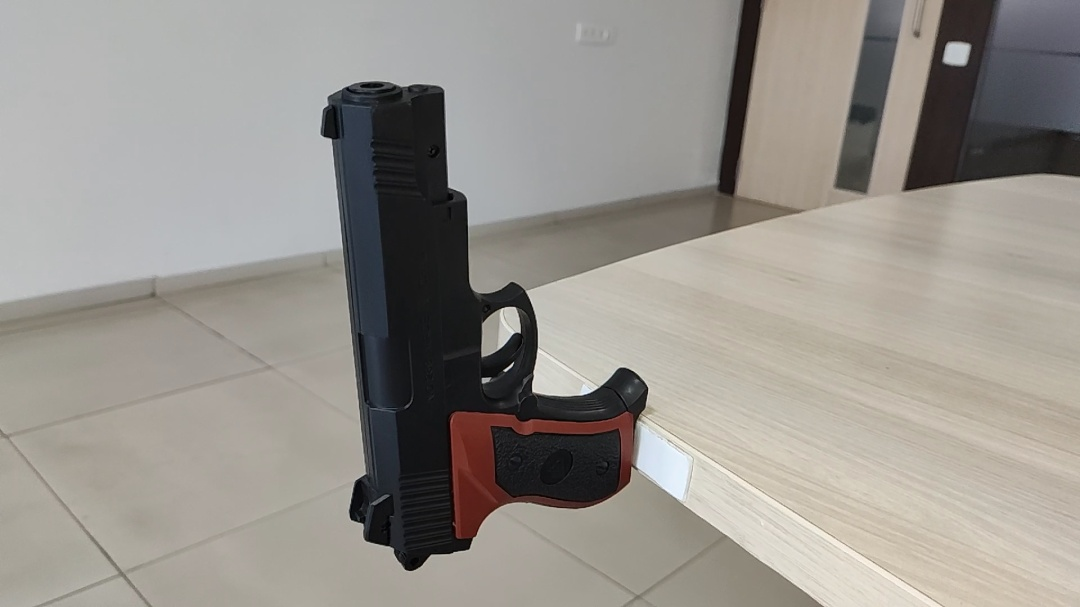gun: (318, 74, 651, 569)
